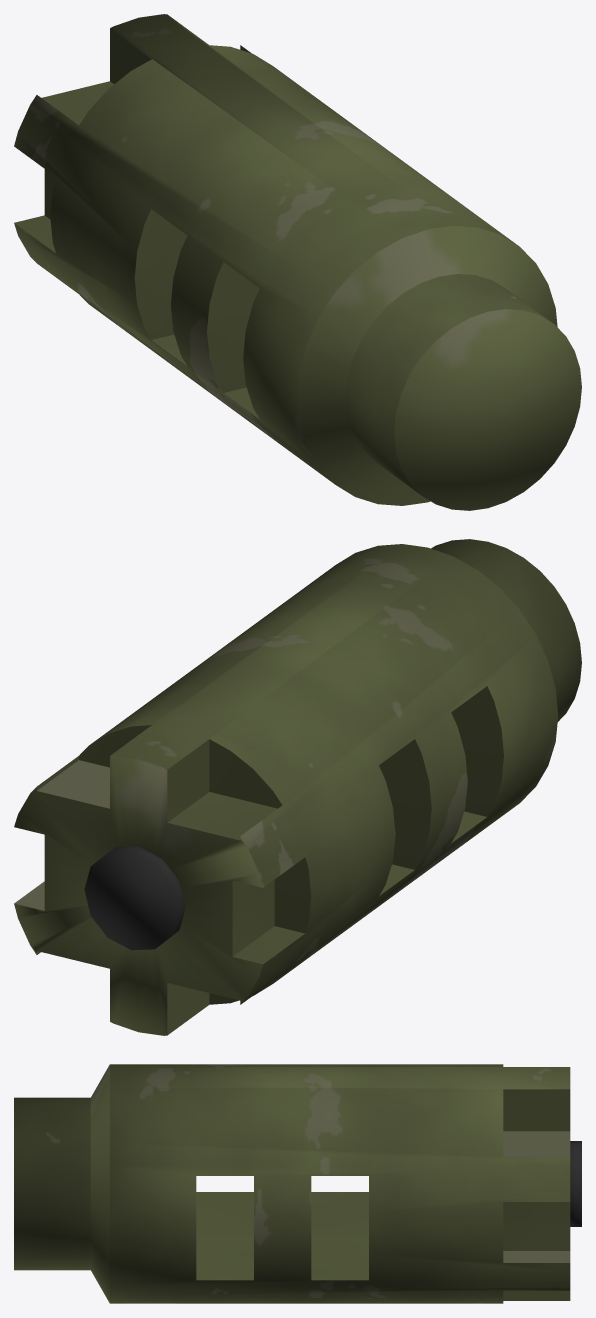
File: muzzle_tactical.glb
The picture shows the model from 3 angles, top to bottom: view 1: azimuth 30°, elevation 25°; view 2: azimuth 150°, elevation 25°; view 3: azimuth 270°, elevation 25°; orthographic projection. The views are drawn at different scales.
Parts seen in each view (by area): view 1: body; view 2: body, bore; view 3: body, bore.
Part boxes in pixels (x1,y1,x2,y2): body: (14,14,581,510); body: (14,539,581,1035); bore: (84,846,185,950); body: (14,1064,570,1303); bore: (570,1141,581,1226).
Size of the model in its own units: 0.025 by 0.025 by 0.0592.
2 materials, 1 textured.
